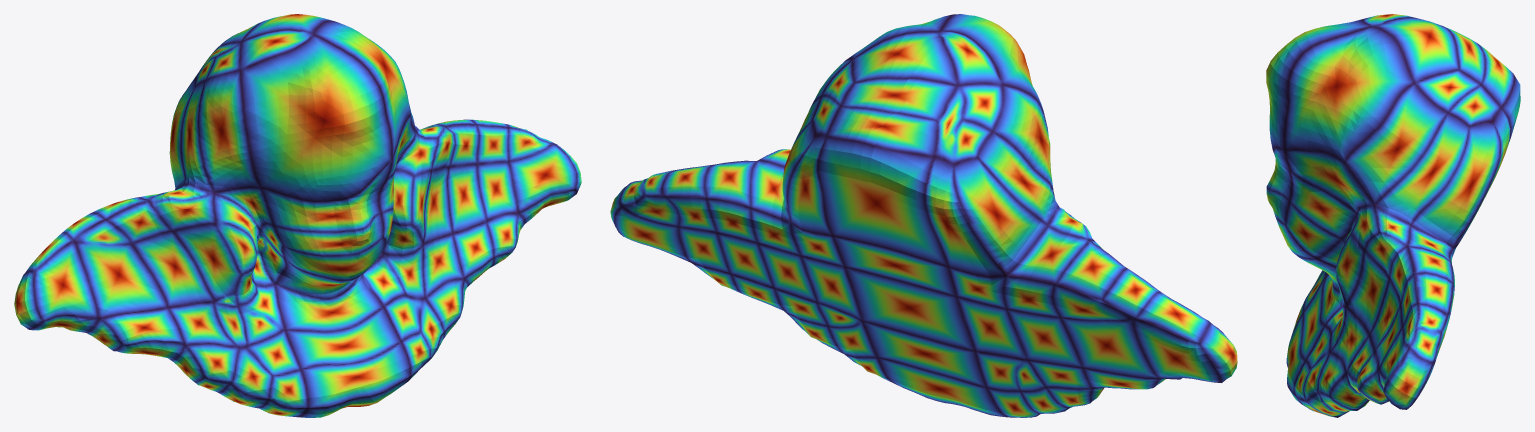
Rendered from gen0.glb.
3 views of the same model, side by side, from view 1: azimuth 30°, elevation 25°; view 2: azimuth 150°, elevation 25°; view 3: azimuth 270°, elevation 25° (orthographic). The views are drawn at different scales.
Visible parts, largest first — view 1: Node; view 2: Node; view 3: Node.
Boxes of the visible parts, x1,y1,x2,y2 form: Node: [14, 14, 581, 417]; Node: [610, 14, 1237, 417]; Node: [1266, 14, 1520, 417].
Bounding box in the file's own units: 67.98 × 41.37 × 25.78.
1 material, 1 textured.
